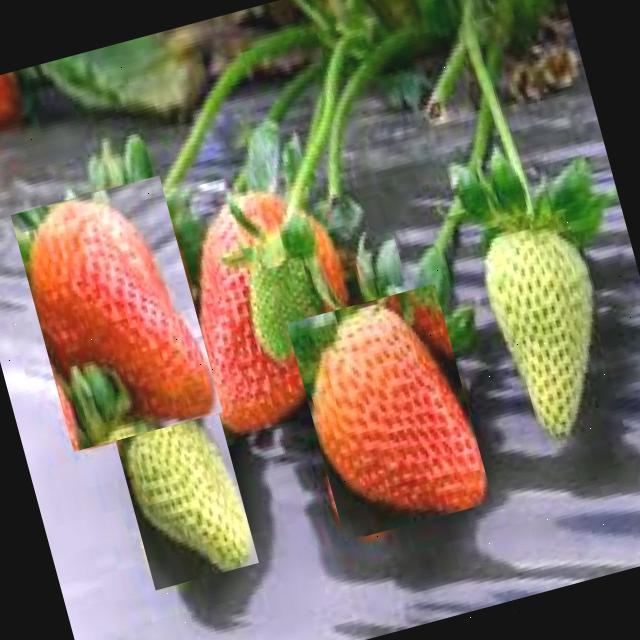ripe: (9, 175, 222, 451), (162, 174, 372, 436), (287, 284, 493, 542)
unripe: (473, 207, 629, 446), (112, 400, 258, 590)
